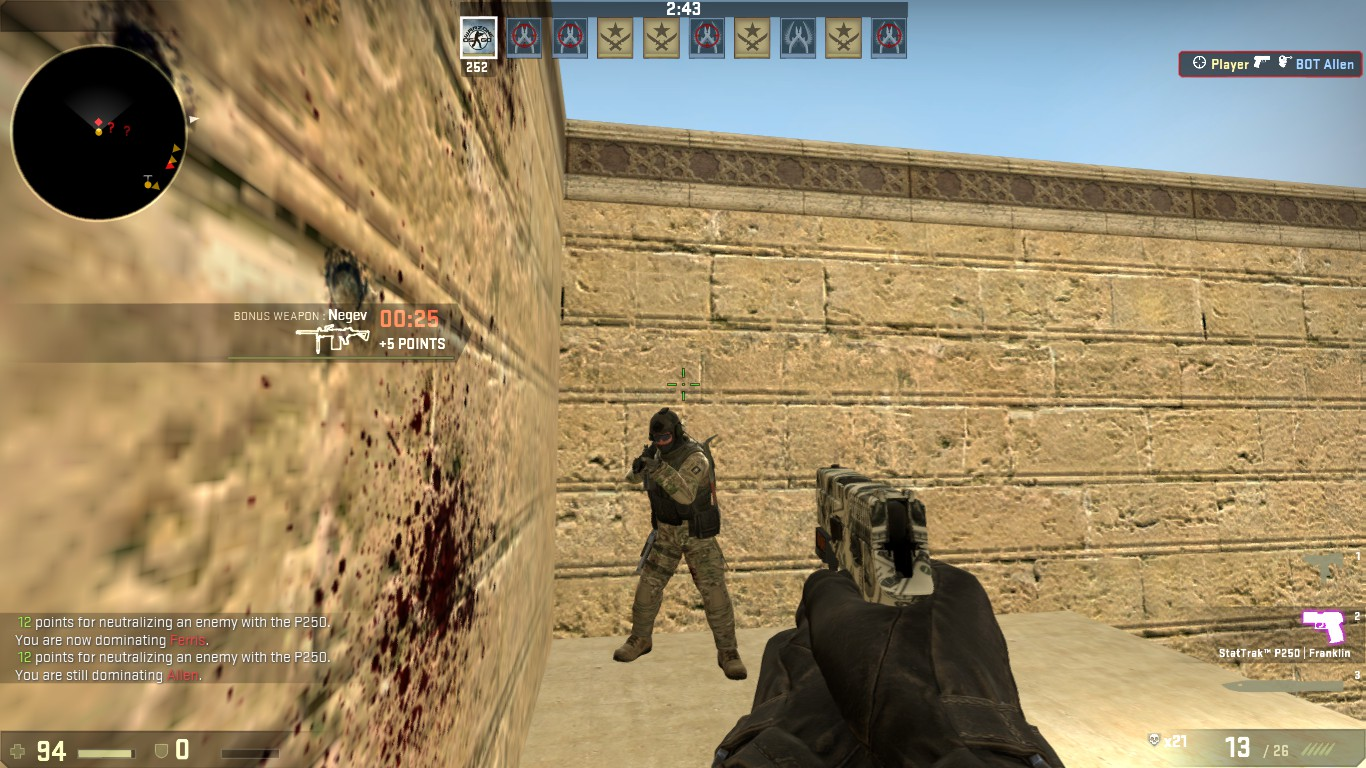c: (617, 405, 747, 672)
ch: (640, 406, 695, 458)
